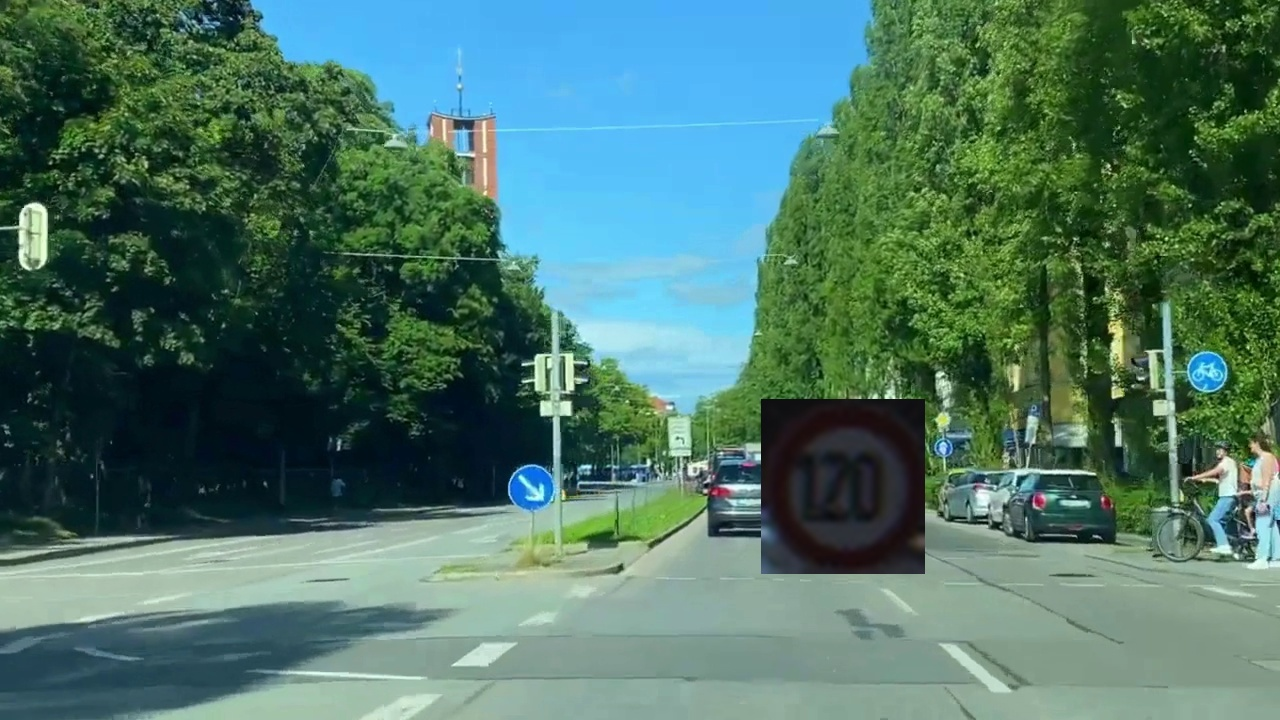Speed 120: (761, 399, 925, 574)
